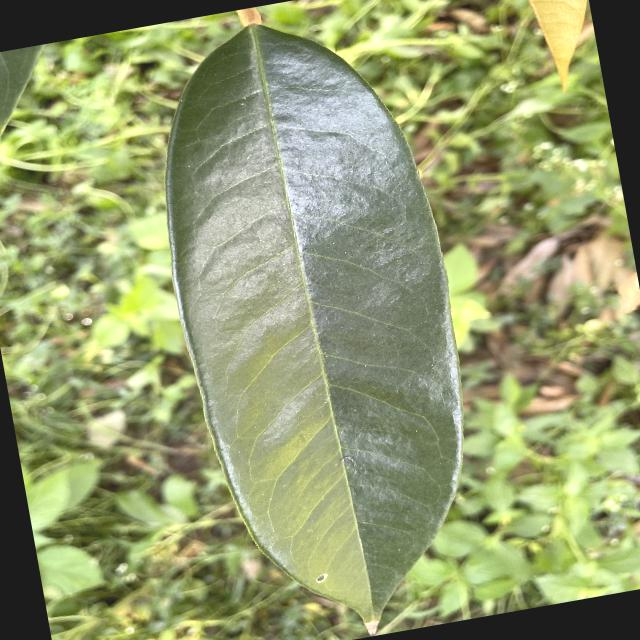No Disease: (120, 0, 515, 639)
